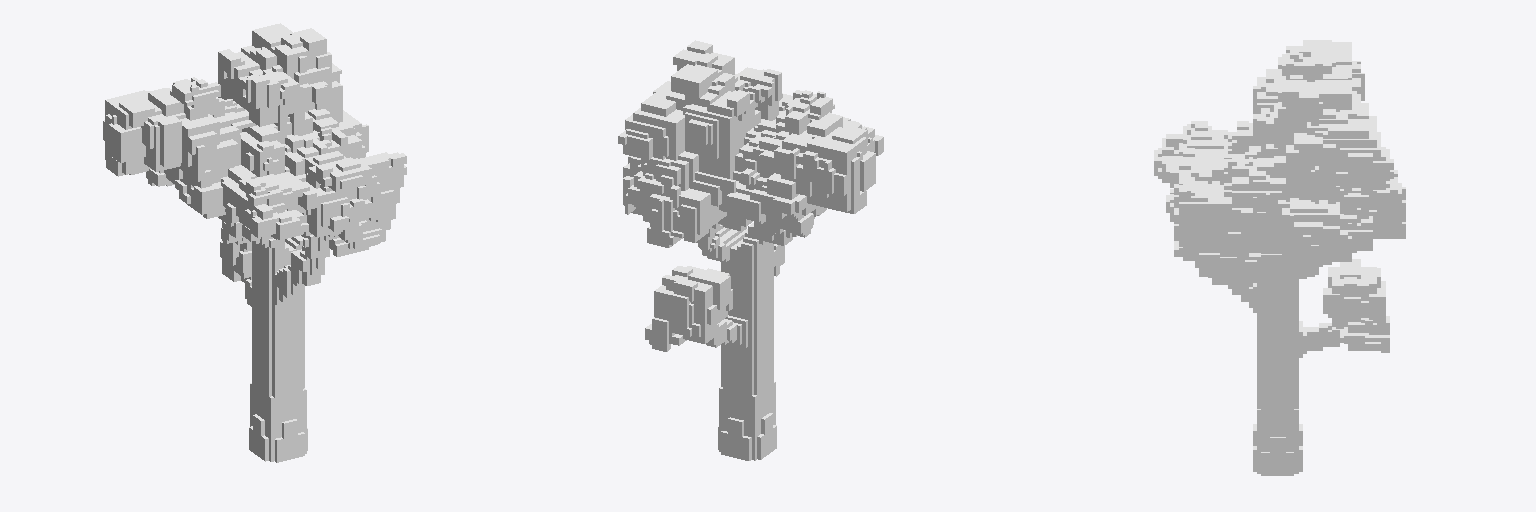
The model's file is Tree.obj.
The picture shows the model from 3 angles: view 1: azimuth 30°, elevation 25°; view 2: azimuth 150°, elevation 25°; view 3: azimuth 270°, elevation 25°; orthographic projection.
Visible parts, largest first — view 1: Tree; view 2: Tree; view 3: Tree.
Boxes of the visible parts, <box> form: Tree: <box>103,23,406,462</box>; Tree: <box>618,40,883,460</box>; Tree: <box>1154,40,1405,475</box>.
Bounding box in the file's own units: 68 × 106 × 61.